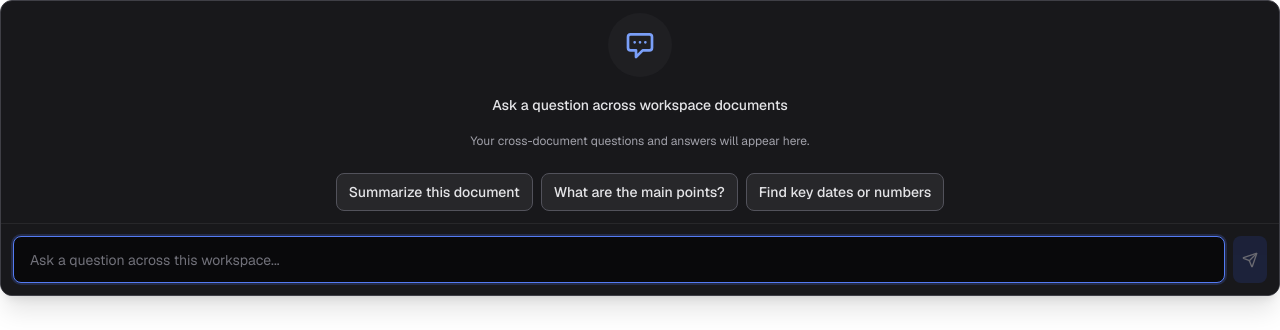
Test: ChatWindow streaming lifecycle › submits workspace queries through non-streaming workspace endpoint
In the text box with placeholder "Ask a question across this workspace...": (619, 260) [13, 236, 1225, 283], type "How do these files connect?"
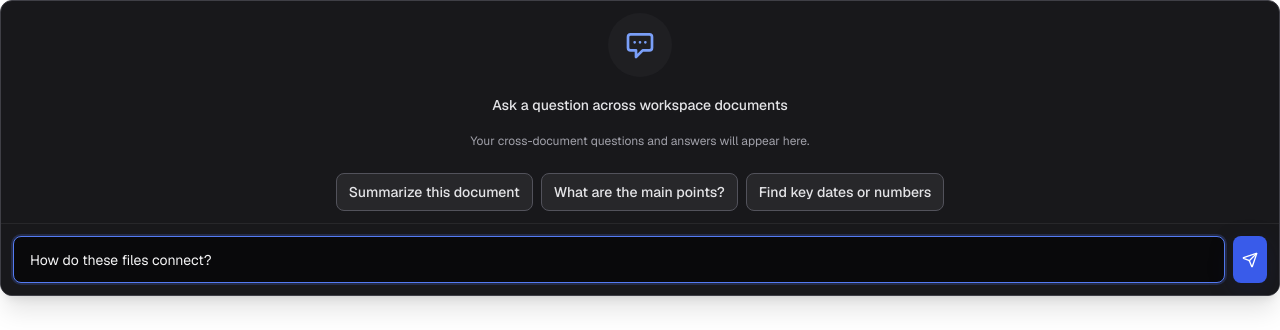
Click the button named "Send message": click(1250, 260) [1233, 236, 1267, 283]
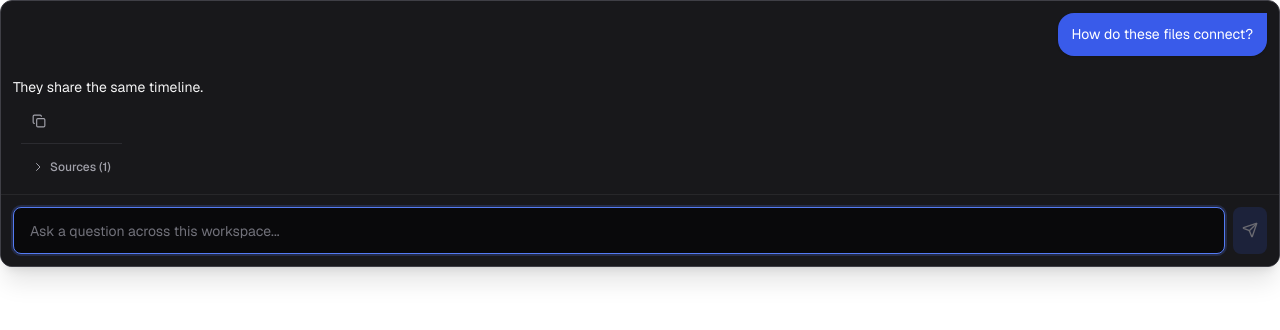
Expected: the text "They share the same timeline." is shown, [13, 78, 203, 96]
